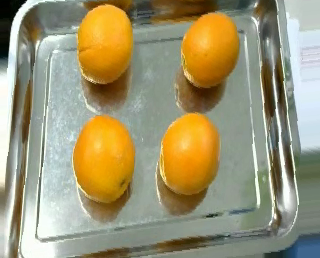Orange: (74, 115, 136, 203), (157, 111, 220, 194), (180, 10, 240, 88), (77, 4, 134, 85)
